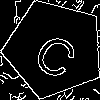C: (29, 24, 87, 82)
